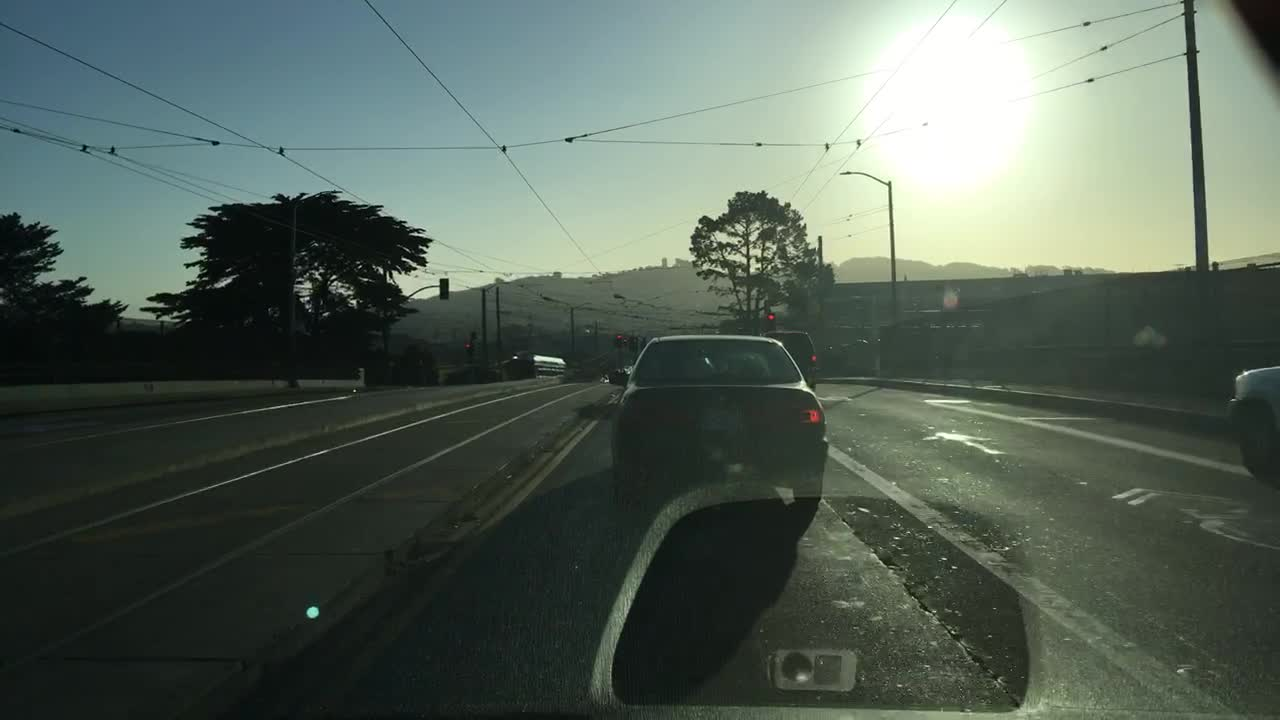car: (608, 334, 829, 505), (1222, 365, 1276, 481), (764, 328, 818, 391), (617, 364, 633, 387), (606, 367, 623, 386)
traffic light: (437, 276, 451, 302), (768, 311, 777, 329), (614, 331, 623, 348), (463, 340, 471, 353)
